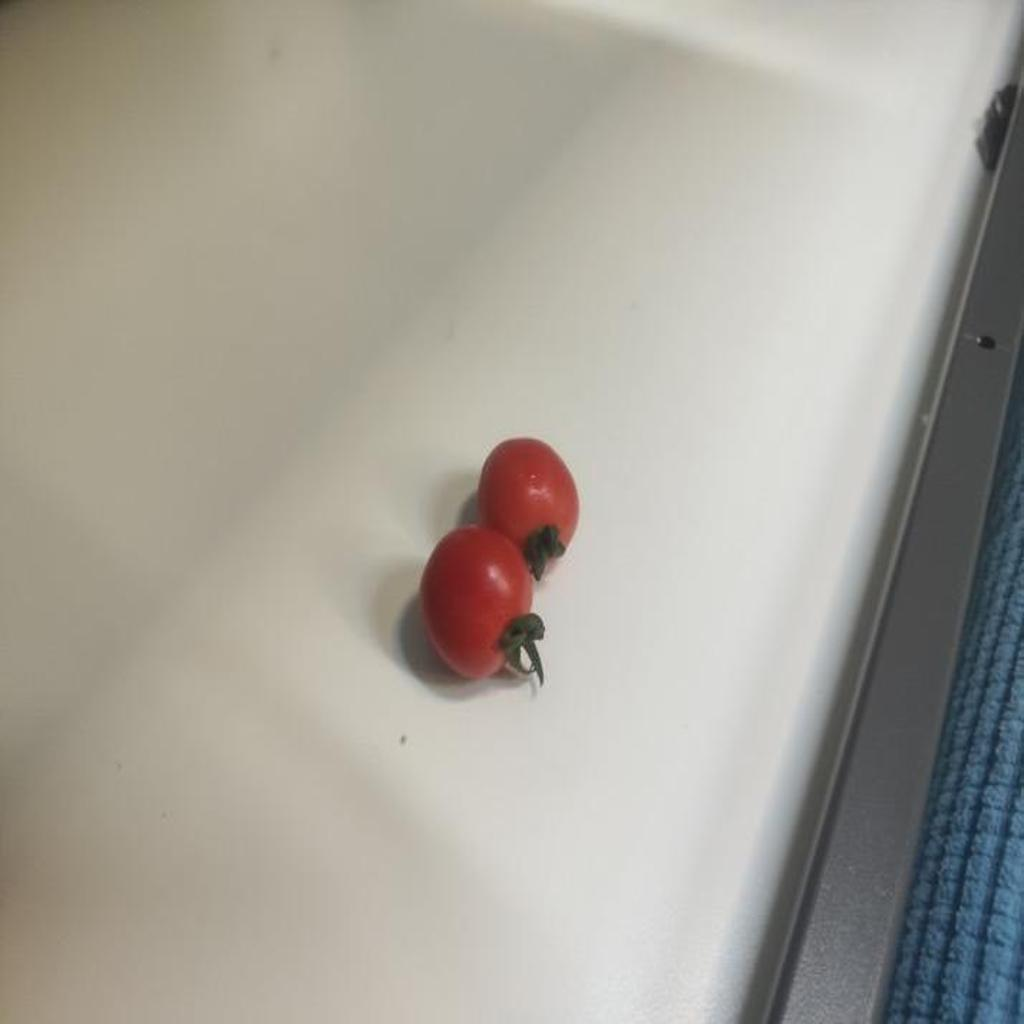tomato: (418, 528, 545, 691), (474, 433, 602, 572)
